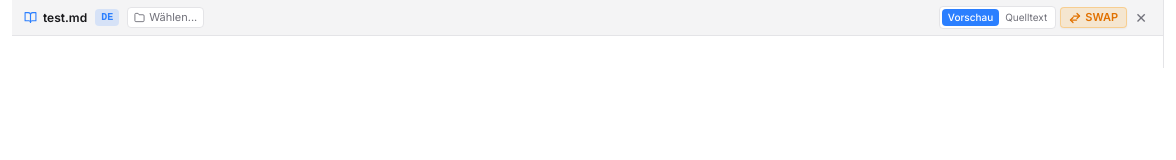
QaReferencePane › toggles between rendered preview and raw text view
This screenshot has width=1176, height=160.
Click the button "Quelltext" at (1026, 18), box [999,9,1053,26]
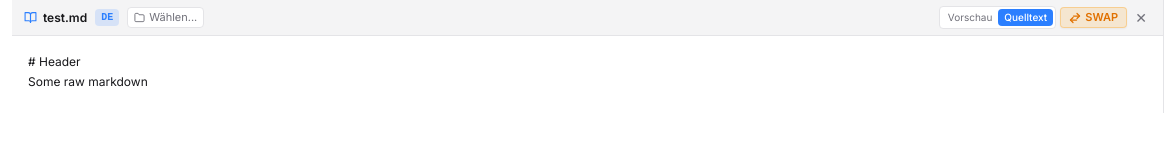
Now the text box is shown, box [12,36,1163,107]
